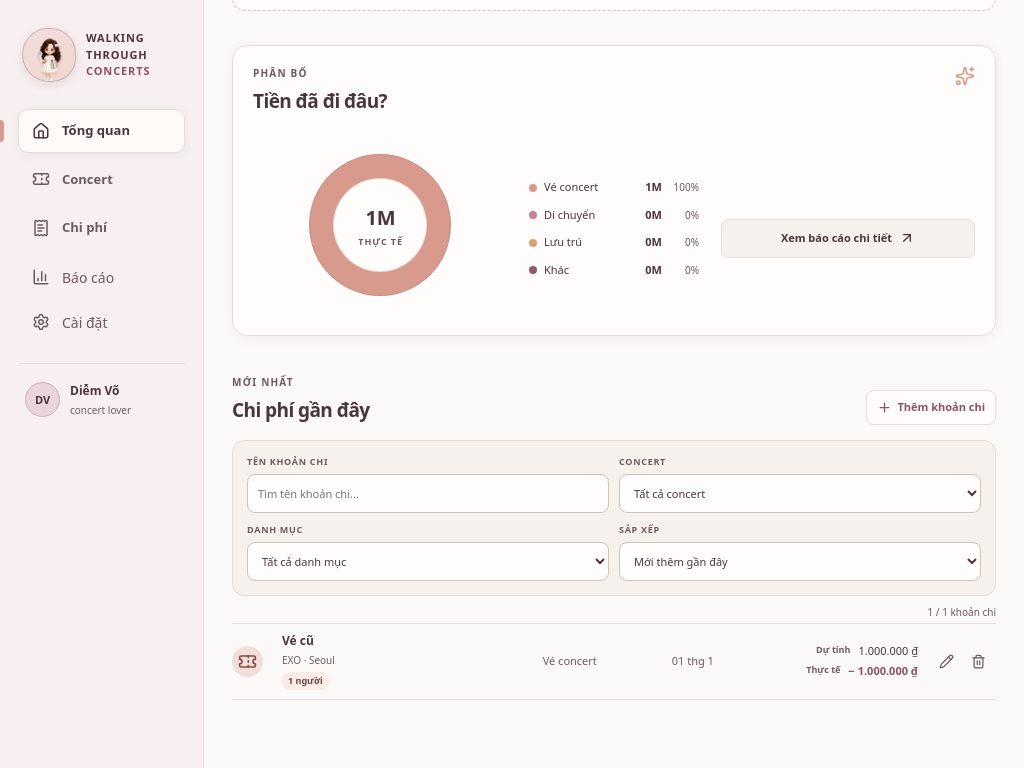
Test: Walking Through Concerts dashboard › migrates a saved legacy amount to planned and actual values for one person
The image size is (1024, 768).
(page scrolled)
Click the button named "Chỉnh sửa Vé cũ". click: (946, 661)
box: [932, 647, 961, 676]
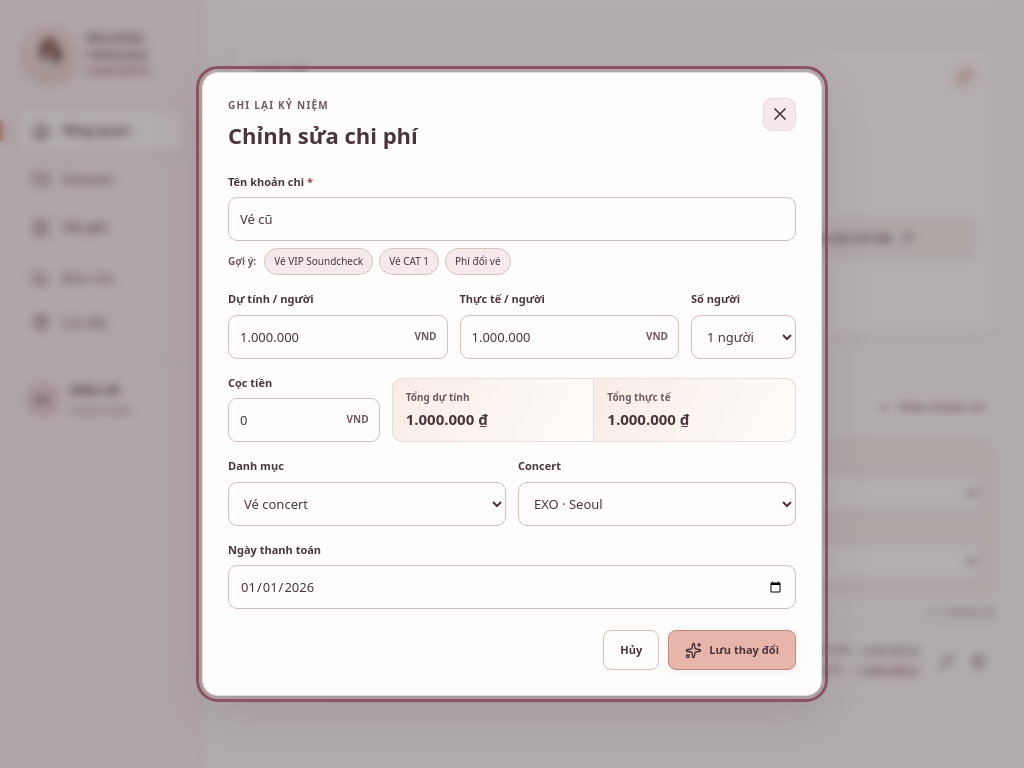
Expected: the field labelled "Dự tính / người" holds "1.000.000", [228, 315, 448, 359]
Expected: the field labelled "Thực tế / người" holds "1.000.000", [460, 315, 679, 359]
Expected: the field labelled "Cọc tiền" holds "0", [228, 398, 380, 442]
